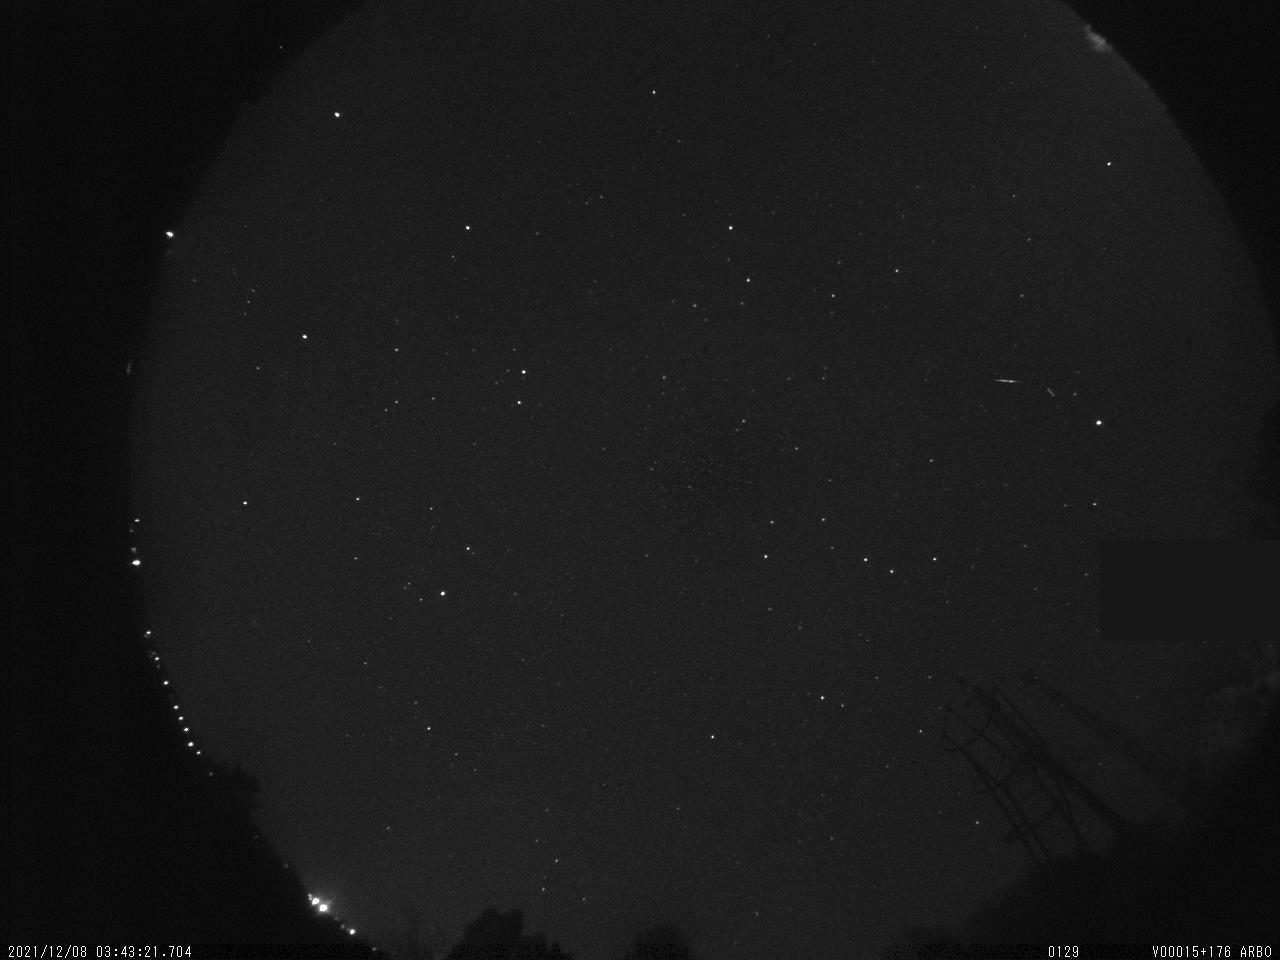meteor: (991, 371, 1025, 390)
